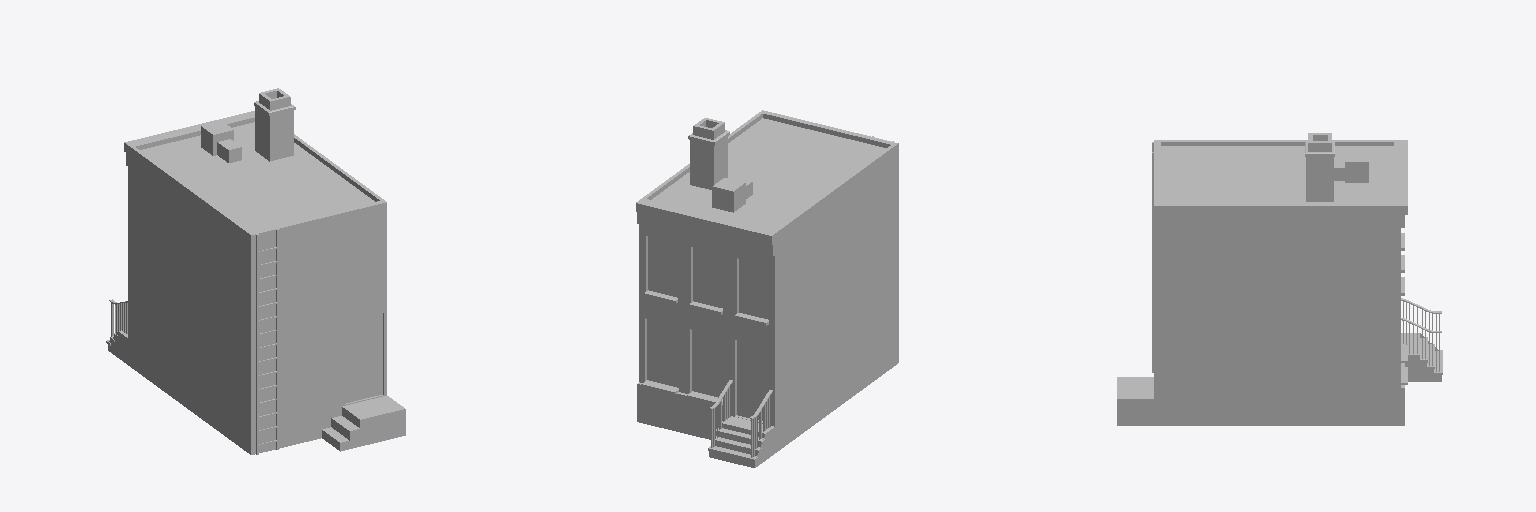
Rendered from residential_brick_1.obj.
3 renders of one model, left to right at view 1: azimuth 30°, elevation 25°; view 2: azimuth 150°, elevation 25°; view 3: azimuth 270°, elevation 25°, orthographic.
Parts seen in each view (by area): view 1: Building; view 2: Building; view 3: Building.
Boxes of the visible parts, x1,y1,x2,y2 form: Building: [106, 88, 405, 454]; Building: [636, 110, 898, 467]; Building: [1117, 133, 1442, 425].
Size of the model in its own units: 0.4484 by 0.8584 by 0.9227.